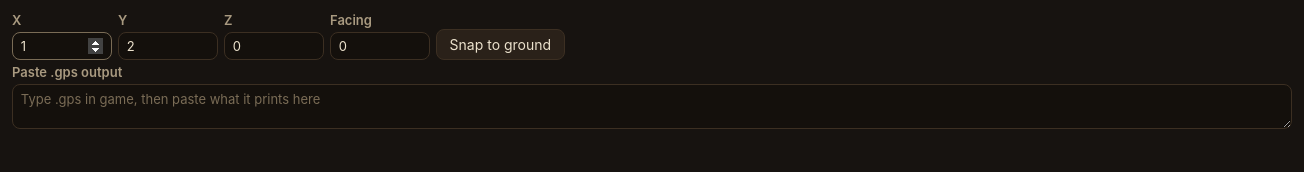
Test case: Snap to ground › shows why there is no height
What coordinates should you click on to do the following:
click the button "Snap to ground"
I would click on:
 (500, 45)
Its box is [436,29,565,60].
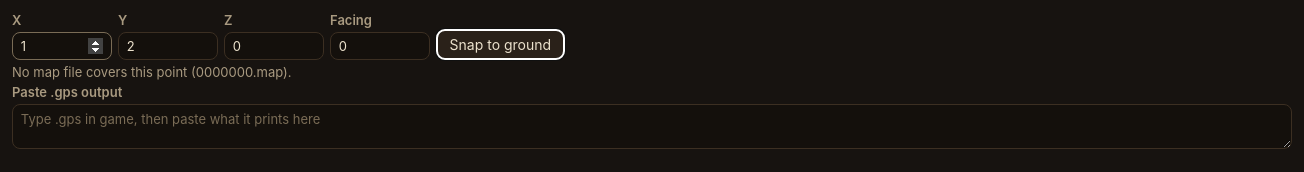
Expected: the text "No map file covers this point (0000000.map)." is shown, [12,64,292,80]
